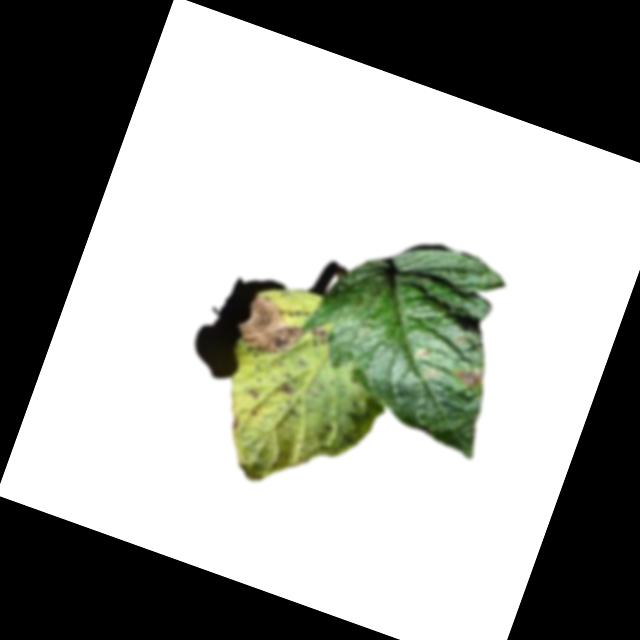Early_blight: (231, 292, 329, 373), (452, 360, 489, 395), (274, 379, 298, 398)
